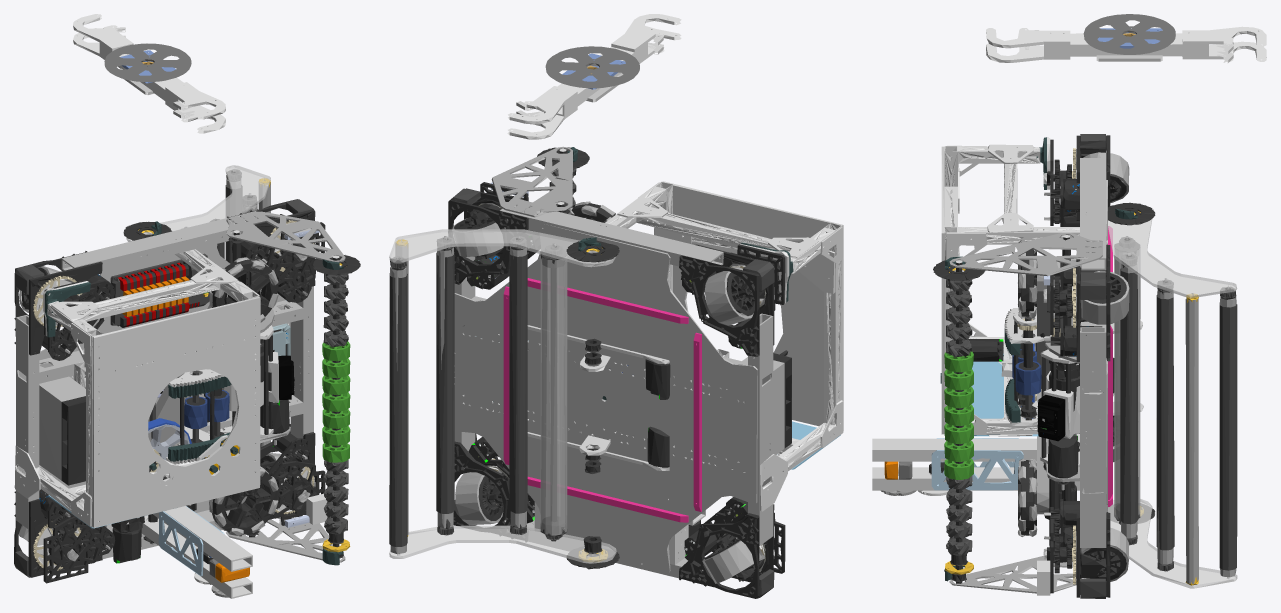
3 renders of one model, left to right at view 1: azimuth 30°, elevation 25°; view 2: azimuth 150°, elevation 25°; view 3: azimuth 270°, elevation 25°, orthographic. The views are drawn at different scales.
Visible parts, largest first — view 1: main_mesh, c0_mesh, c3_mesh, c1_mesh, c2_mesh; view 2: main_mesh, c1_mesh, c0_mesh, c2_mesh, c3_mesh; view 3: main_mesh, c1_mesh, c0_mesh, c3_mesh, c2_mesh.
Part boxes in pixels (x1,y1,x2,y2): main_mesh: (14, 199, 360, 598); c0_mesh: (73, 14, 225, 133); c3_mesh: (166, 369, 231, 464); c1_mesh: (123, 165, 270, 452); c2_mesh: (149, 325, 294, 439); main_mesh: (448, 146, 843, 598); c1_mesh: (389, 229, 619, 569); c0_mesh: (507, 14, 681, 139); c2_mesh: (527, 325, 674, 470); c3_mesh: (579, 338, 628, 473); main_mesh: (872, 134, 1129, 598); c1_mesh: (1108, 202, 1237, 588); c0_mesh: (986, 14, 1266, 63); c3_mesh: (1004, 308, 1143, 425); c2_mesh: (1035, 285, 1114, 467).
Bounding box in the file's own units: 0.6983 × 1.05 × 0.7597.
